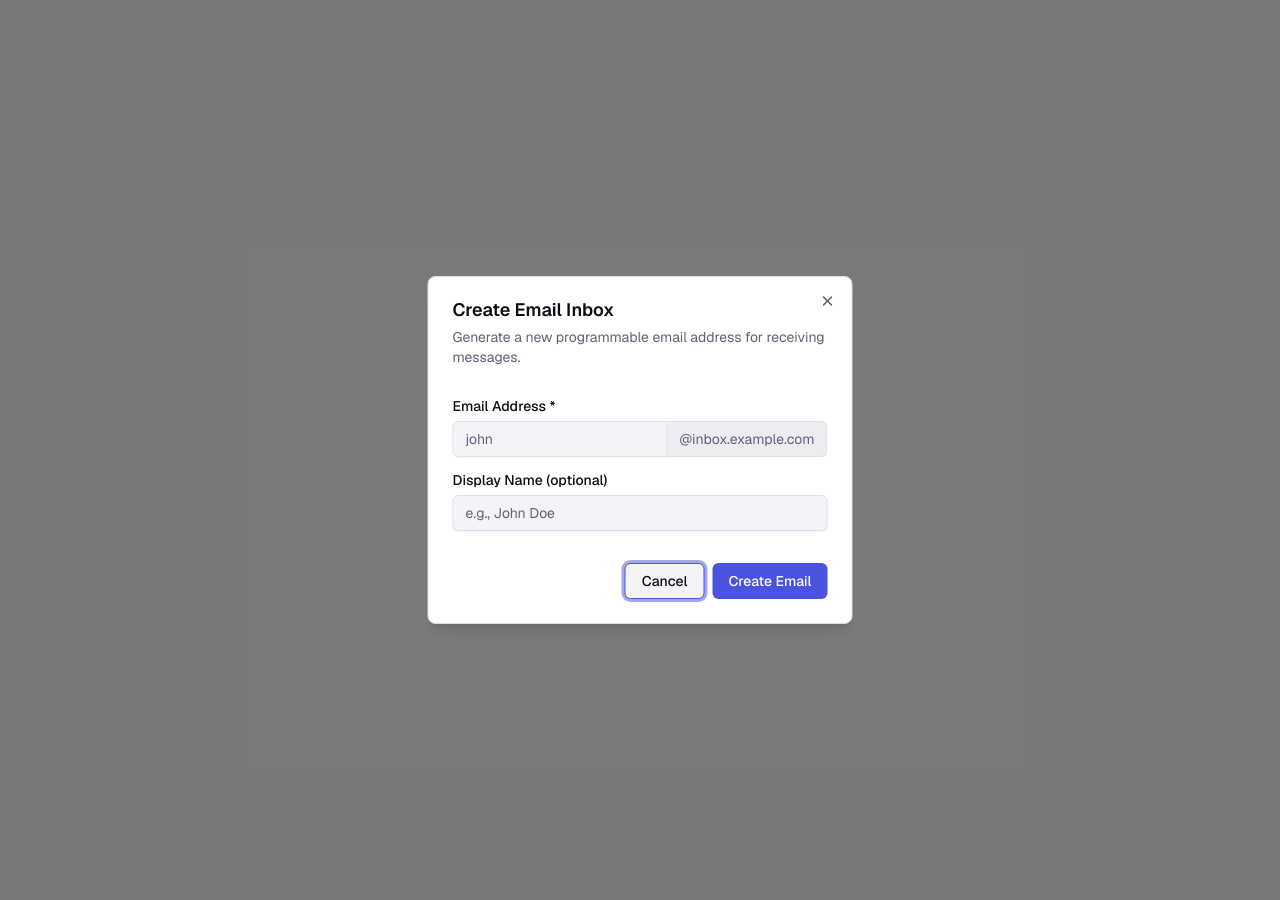
CreateEmailDialog — inline validation blocks submission › rejects amazon-security (embedded brand) without a network call
Type "amazon-security" into the field labelled "Email Address *" at (560, 439), box [452,421,667,457]
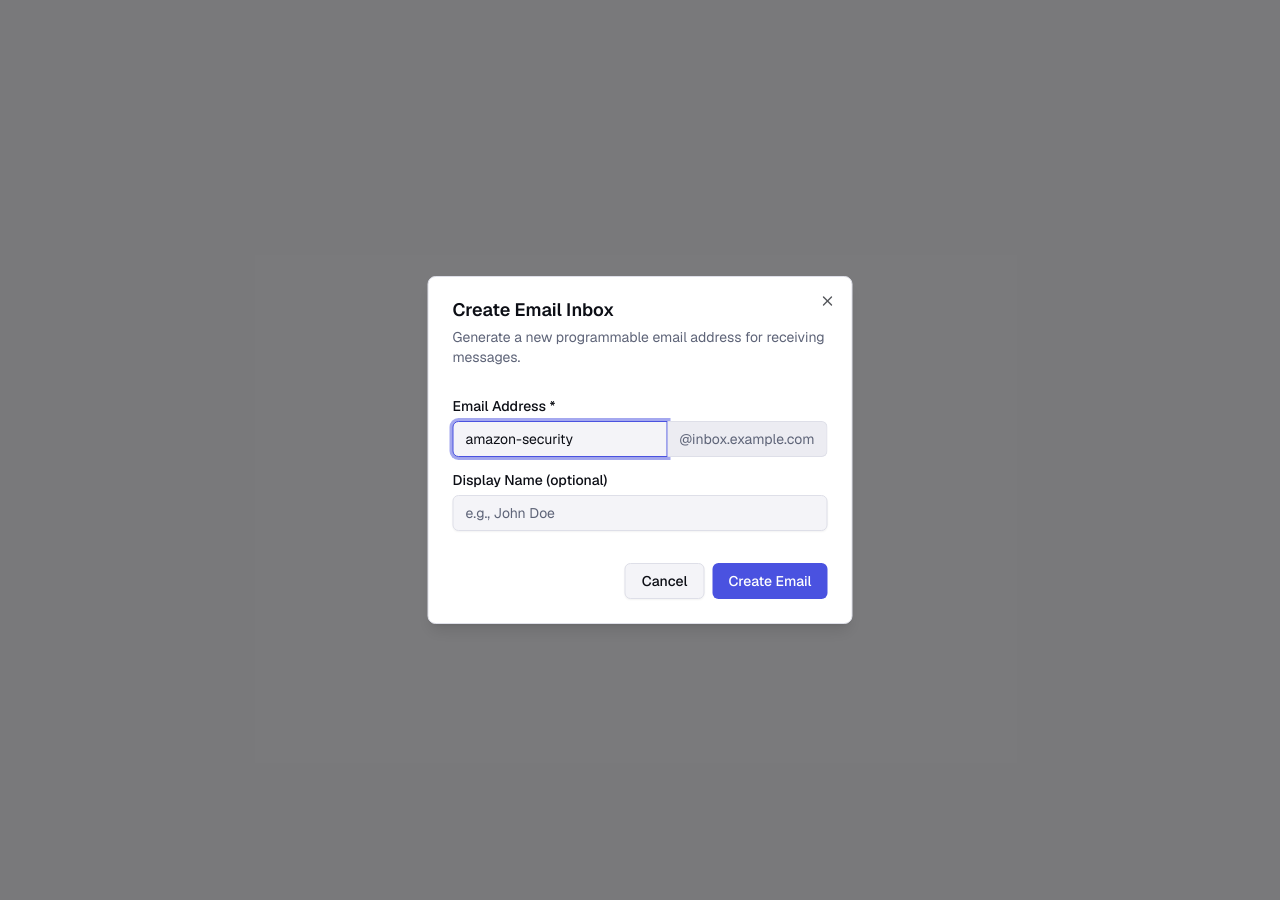
Click the button "Create Email" at (770, 581), box [712,563,828,599]
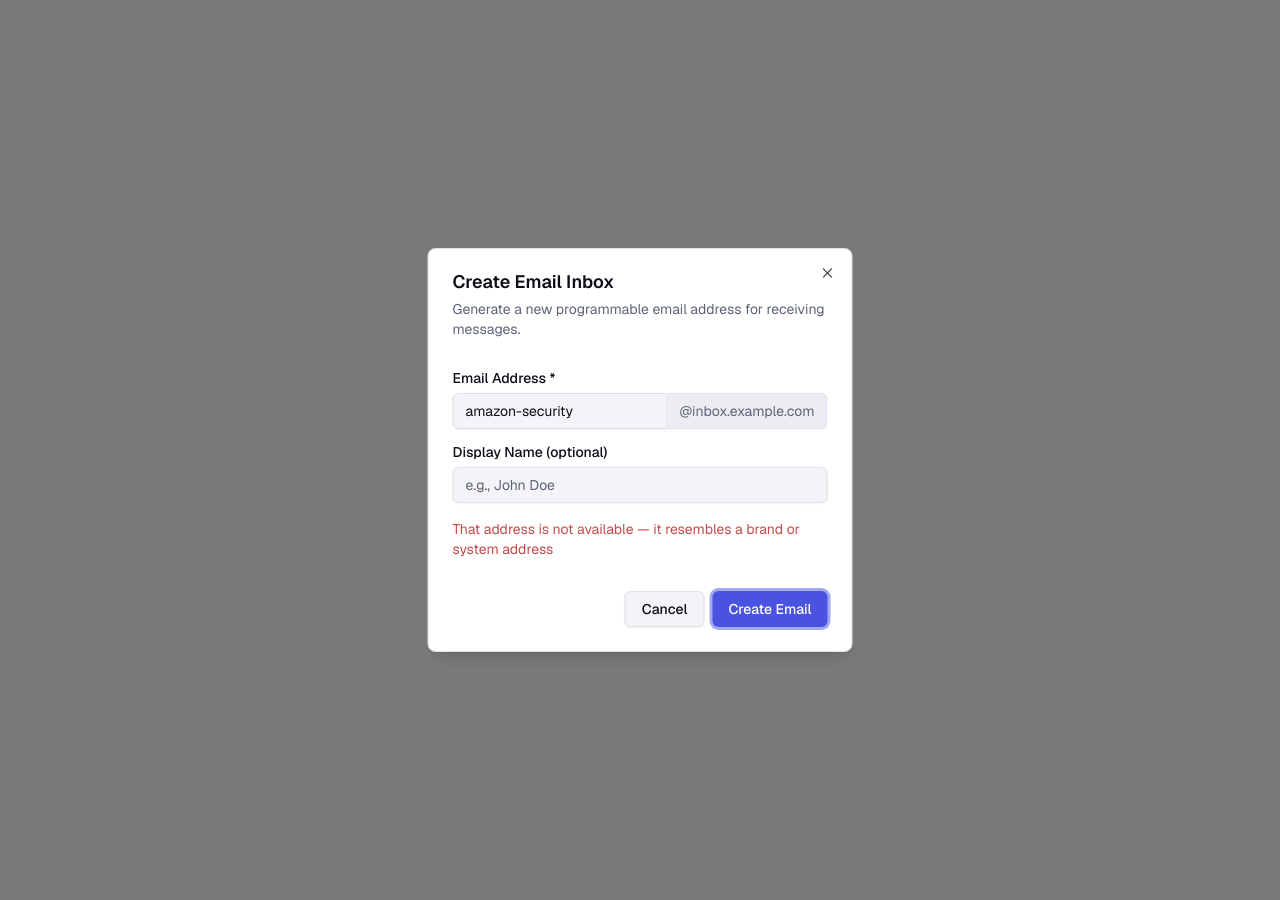
Result: the message shows "resembles a brand or system address" at [452,520,800,558]
